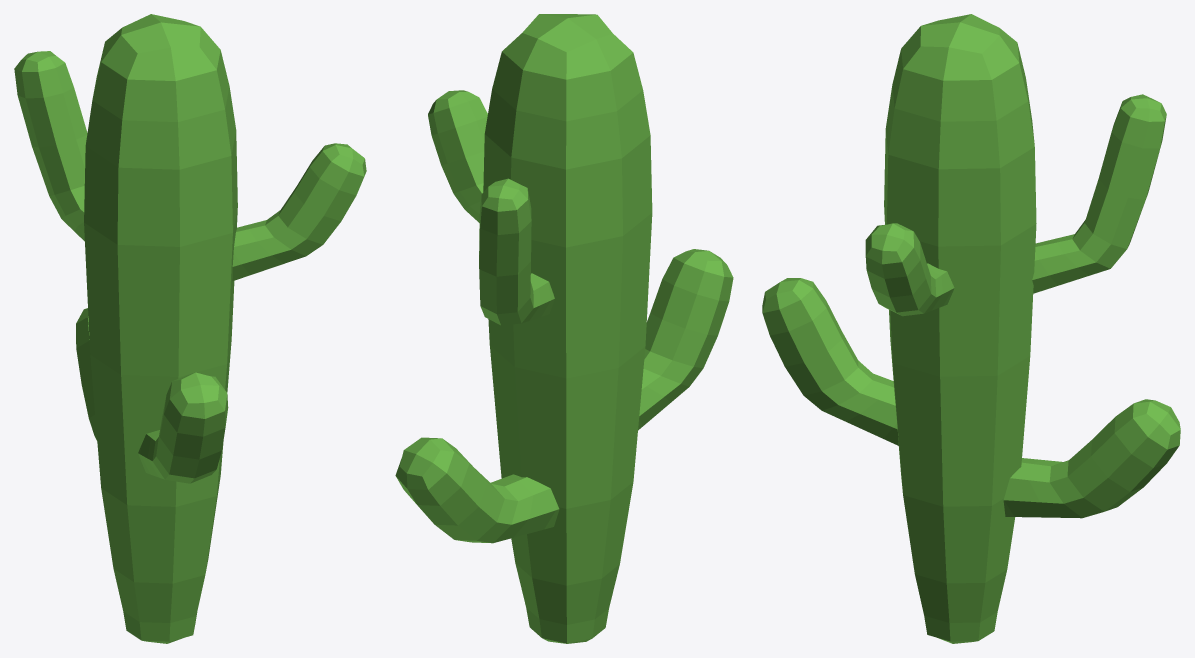
File: nature-cactus-2.glb
3 renders of one model, left to right at view 1: azimuth 30°, elevation 25°; view 2: azimuth 150°, elevation 25°; view 3: azimuth 270°, elevation 25°, orthographic.
Parts seen in each view (by area): view 1: Cactus_2; view 2: Cactus_2; view 3: Cactus_2.
Boxes of the visible parts, left/top/right/bottom form: Cactus_2: left=14, top=14, right=366, bottom=643; Cactus_2: left=395, top=14, right=733, bottom=643; Cactus_2: left=762, top=14, right=1180, bottom=643.
Bounding box in the file's own units: 70.02 × 170 × 105.
